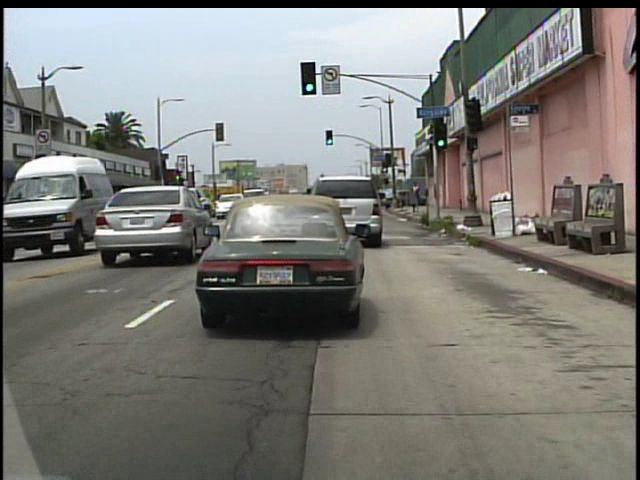person: (413, 181, 424, 208)
